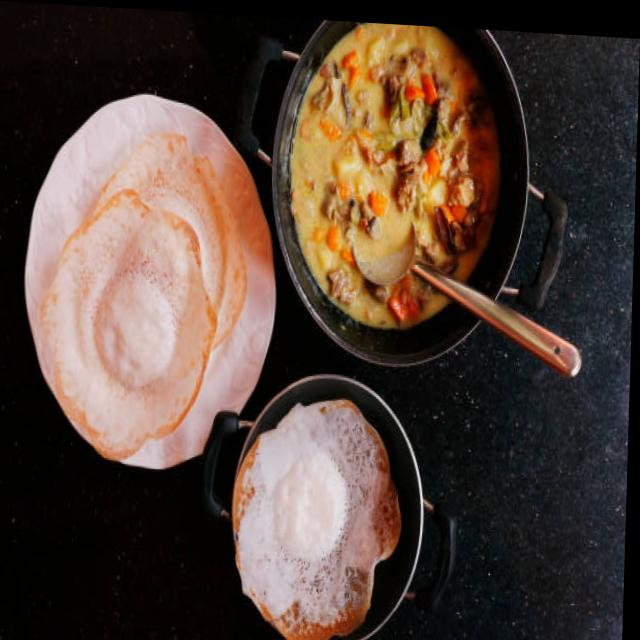AAPAM: (39, 88, 242, 456), (231, 375, 426, 640)
KURMA: (277, 22, 521, 347)
